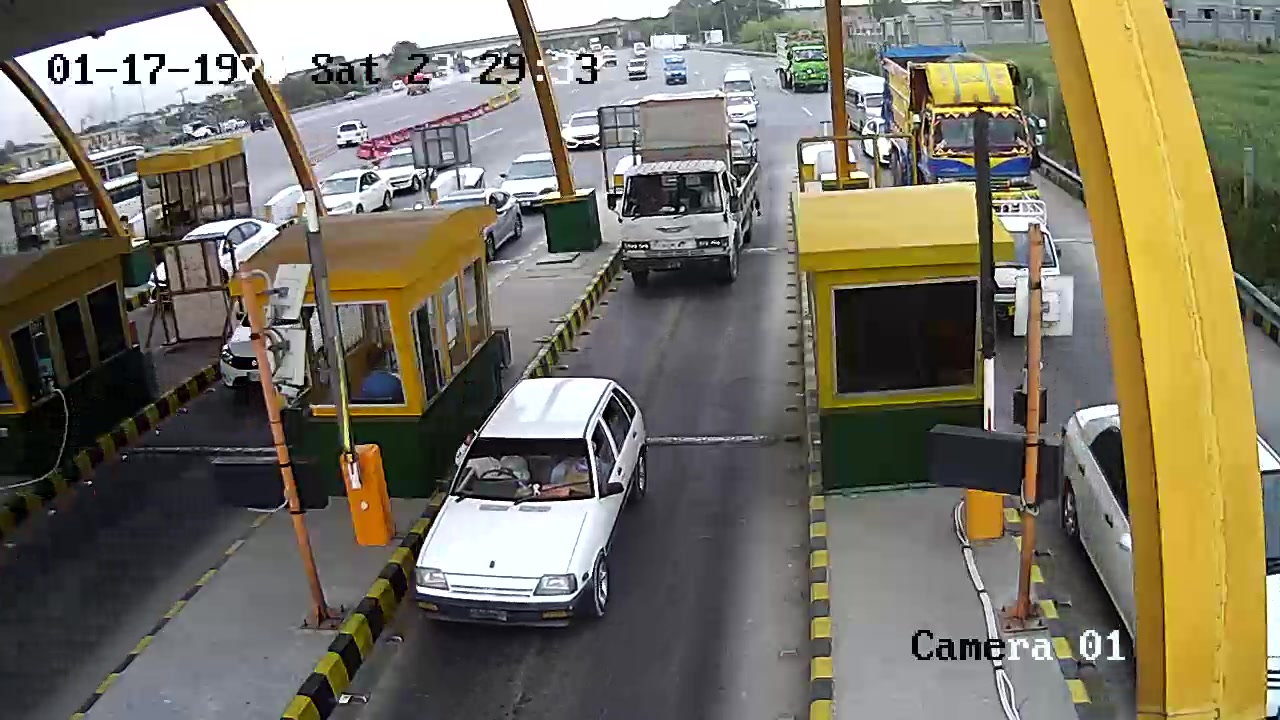F1: (407, 371, 664, 644)
